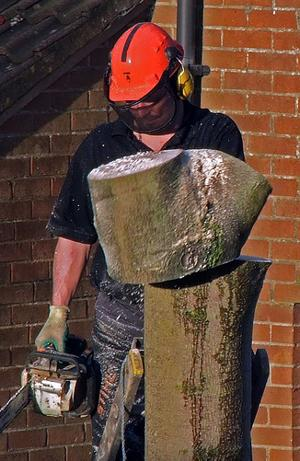person: (32, 21, 247, 461)
